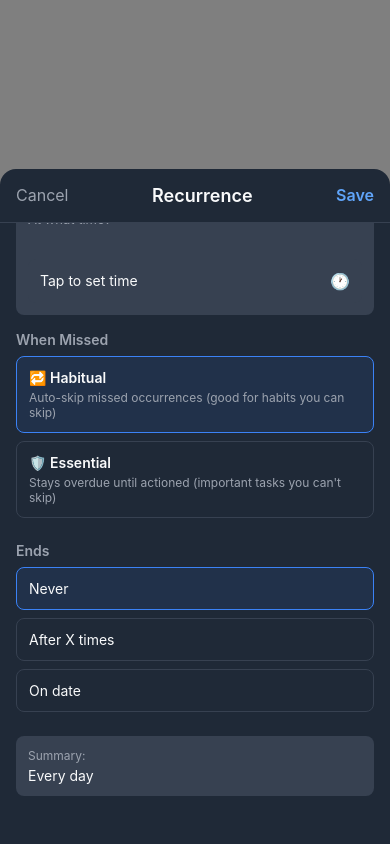
Test case: RecurrencePicker › end conditions › shows count input when After selected
The width and height of the screenshot is (390, 844).
(page scrolled)
Step 1. Click the radio button "After X times" → (195, 639), box [16, 618, 374, 661]
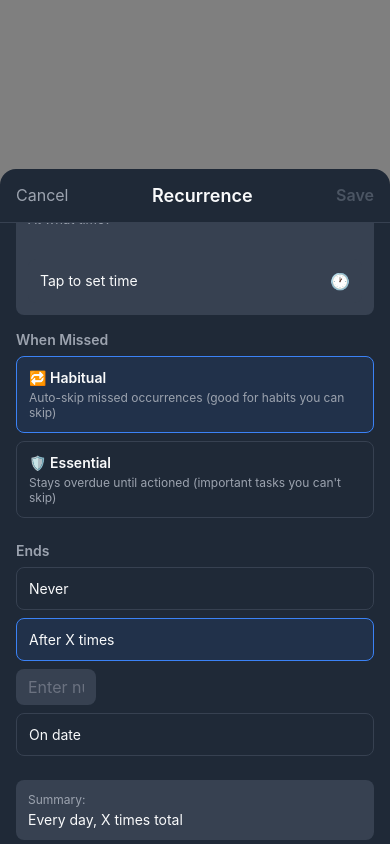
Expected: the field named "Number of occurrences" is shown, [16, 669, 96, 705]
